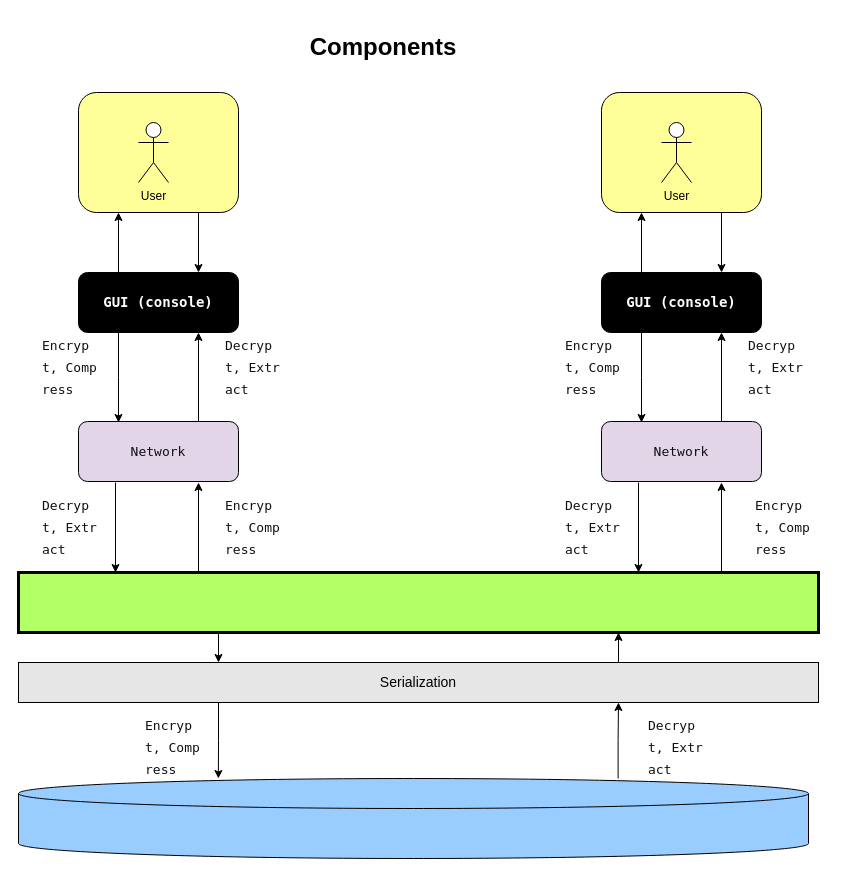
Image size: 846x876. Some labels were removed from this diagram. The shapes that lost their labels are listed below. From the top down, each one's centre as x and y in pixels, then its label:
(418,602): Server
(413,818): File System
